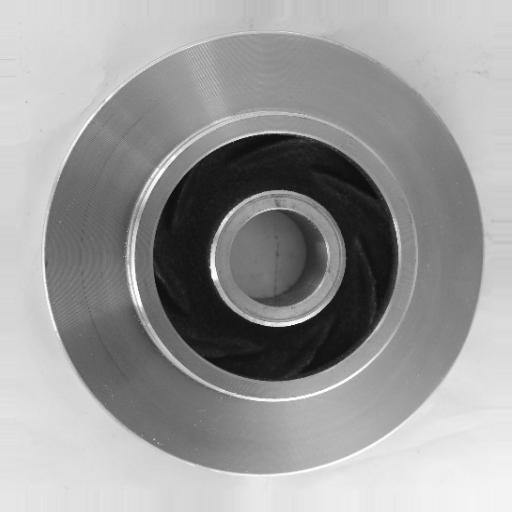polished_casting: (45, 33, 486, 480)
